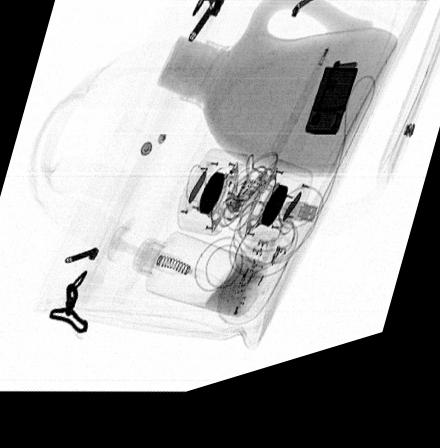Lighter: (303, 85, 357, 153)
